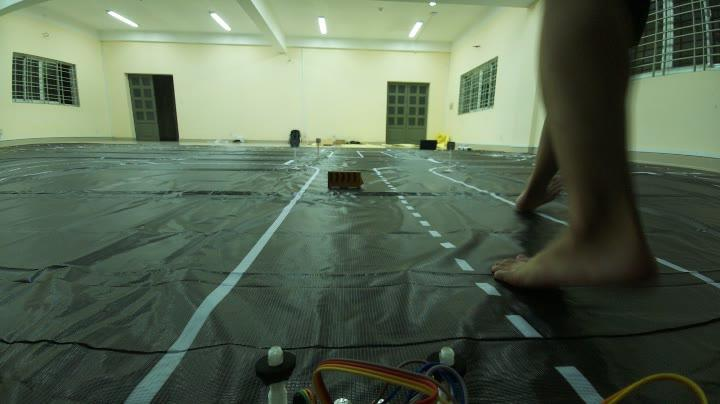roadblock: (322, 163, 370, 203)
